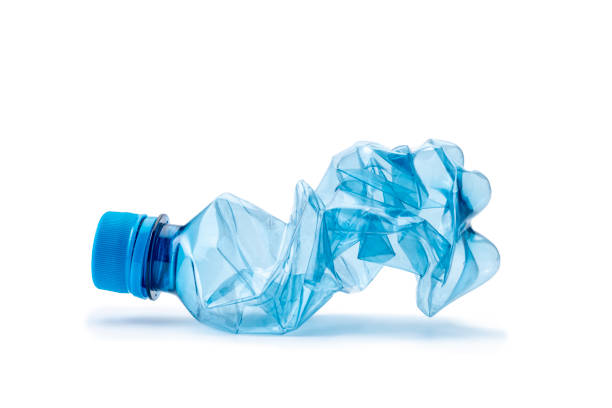plastic_bottle: (89, 136, 502, 334)
